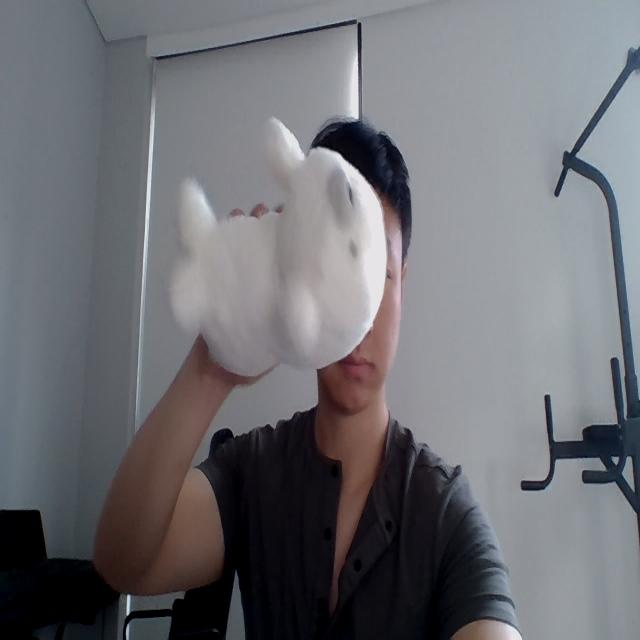seal_bb: (170, 116, 388, 380)
